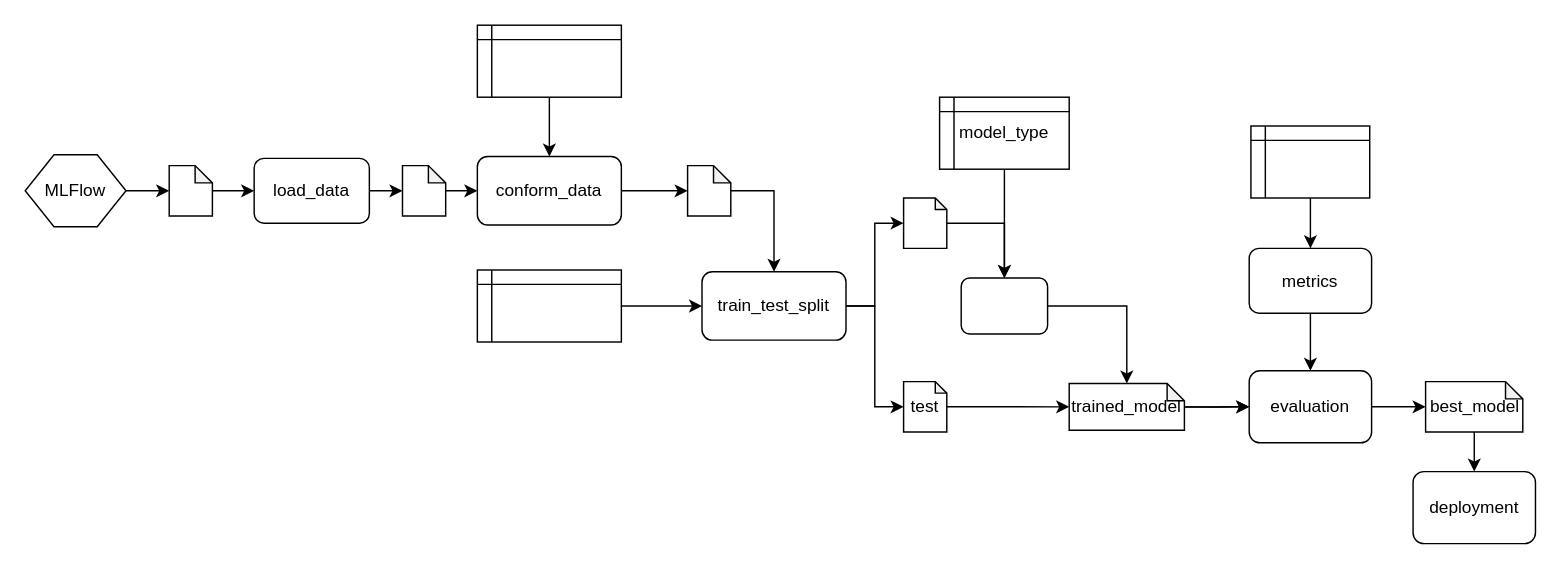
Image size: 1561x569. Some labels were removed from this diagram. Here are the shapes that lost their labels. From the top down, the box of each, then its label:
(476, 24, 621, 97): short_type target
(1249, 125, 1370, 198): f1_score log_loss
(902, 197, 947, 248): train
(476, 269, 621, 342): test_size random_state
(960, 277, 1048, 334): models
